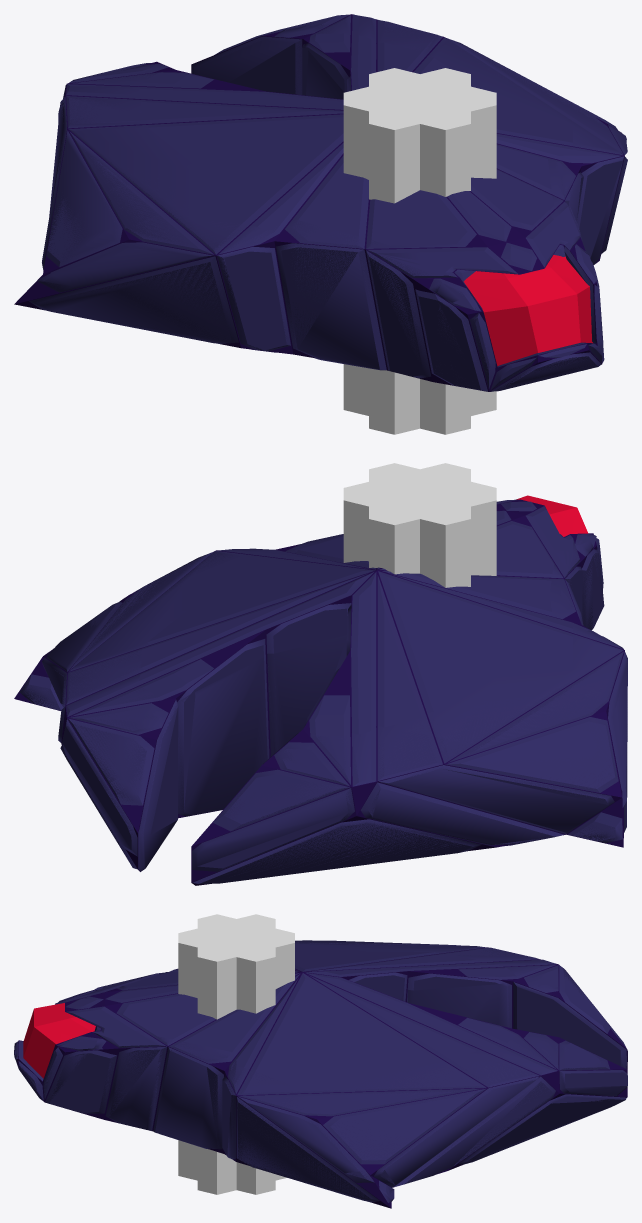
File: ShipDesign1A.fbx
3 views of the same model, one above another, from view 1: azimuth 30°, elevation 25°; view 2: azimuth 150°, elevation 25°; view 3: azimuth 270°, elevation 25° (orthographic). The views are drawn at different scales.
Parts seen in each view (by area): view 1: ShipDesign1A-Full, ShipDesign1A-Sliced, H5, H4, H6, H3, H7, H2, H1; view 2: ShipDesign1A-Full, ShipDesign1A-Sliced, H6, H1, H5, H2, H7, H4, H3; view 3: ShipDesign1A-Full, ShipDesign1A-Sliced, H3, H2, H4, H1, H5, H6, H7.
Part boxes in pixels (left/top/right/bottom): ShipDesign1A-Full: left=29, top=14, right=626, bottom=391; ShipDesign1A-Sliced: left=14, top=14, right=627, bottom=390; H5: left=369, top=105, right=419, bottom=434; H4: left=420, top=105, right=470, bottom=434; H6: left=343, top=86, right=394, bottom=415; H3: left=445, top=86, right=496, bottom=415; H7: left=394, top=86, right=445, bottom=111; H2: left=420, top=68, right=470, bottom=92; H1: left=369, top=68, right=419, bottom=92; ShipDesign1A-Full: left=14, top=495, right=627, bottom=885; ShipDesign1A-Sliced: left=19, top=495, right=627, bottom=883; H6: left=420, top=500, right=470, bottom=587; H1: left=369, top=500, right=419, bottom=574; H5: left=445, top=481, right=496, bottom=575; H2: left=343, top=481, right=394, bottom=562; H7: left=394, top=481, right=445, bottom=506; H4: left=420, top=463, right=470, bottom=487; H3: left=369, top=463, right=419, bottom=487; ShipDesign1A-Full: left=14, top=940, right=627, bottom=1208; ShipDesign1A-Sliced: left=14, top=940, right=627, bottom=1208; H3: left=197, top=943, right=236, bottom=1194; H2: left=236, top=943, right=275, bottom=1194; H4: left=178, top=928, right=216, bottom=1180; H1: left=256, top=928, right=294, bottom=1180; H5: left=197, top=914, right=236, bottom=933; H6: left=236, top=914, right=275, bottom=933; H7: left=217, top=928, right=255, bottom=947.
Size of the model in its own units: 4.55 by 3.99 by 1.9.
